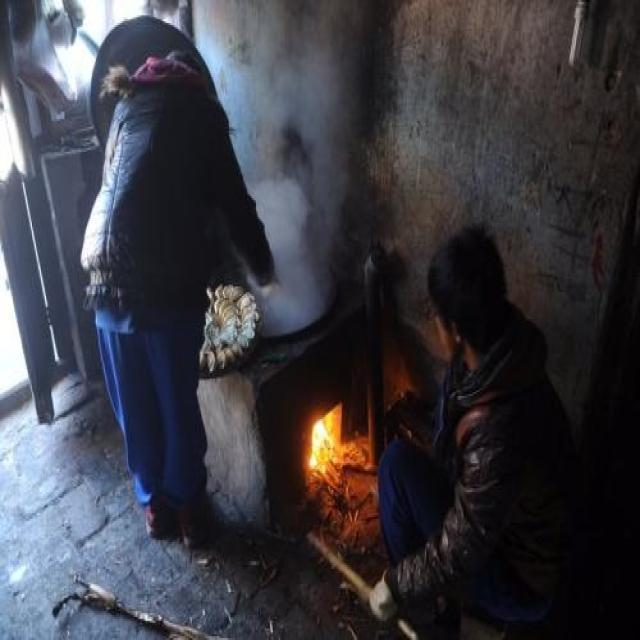Fire: (303, 407, 344, 474)
Smoke: (208, 0, 390, 335)
